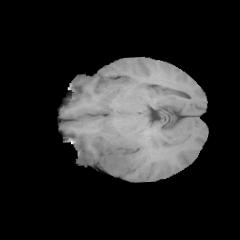glioma: (98, 143, 140, 177)
